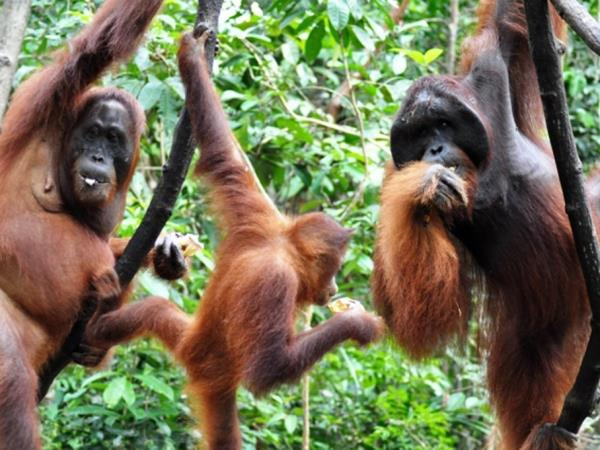Orangutan: (383, 83, 595, 401), (185, 145, 368, 429), (7, 68, 144, 362)
